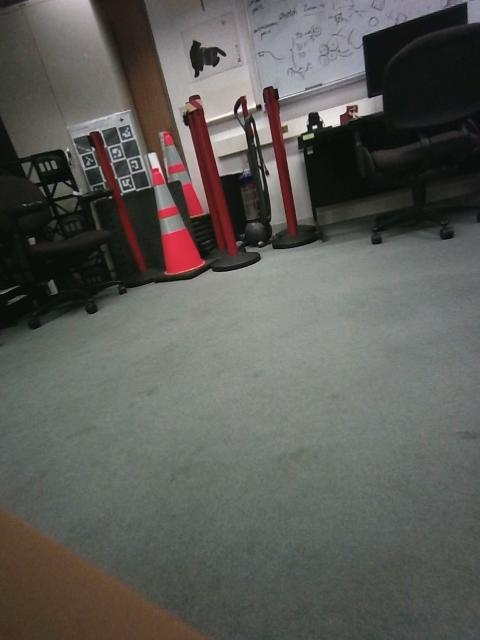block: (399, 280, 479, 319)
